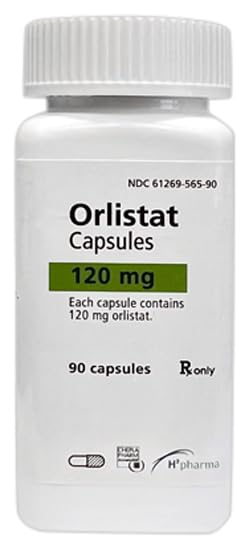120: (70, 310, 88, 320)
Capsules: (70, 231, 154, 255)
Each: (69, 297, 93, 307)
NOC: (128, 179, 149, 187)
Orlistat: (70, 202, 179, 227)
Rony: (180, 360, 215, 376)
capsule: (97, 298, 136, 310)
contains: (140, 299, 184, 308)
mg: (93, 313, 108, 323)
orlistat.: (112, 310, 152, 321)
